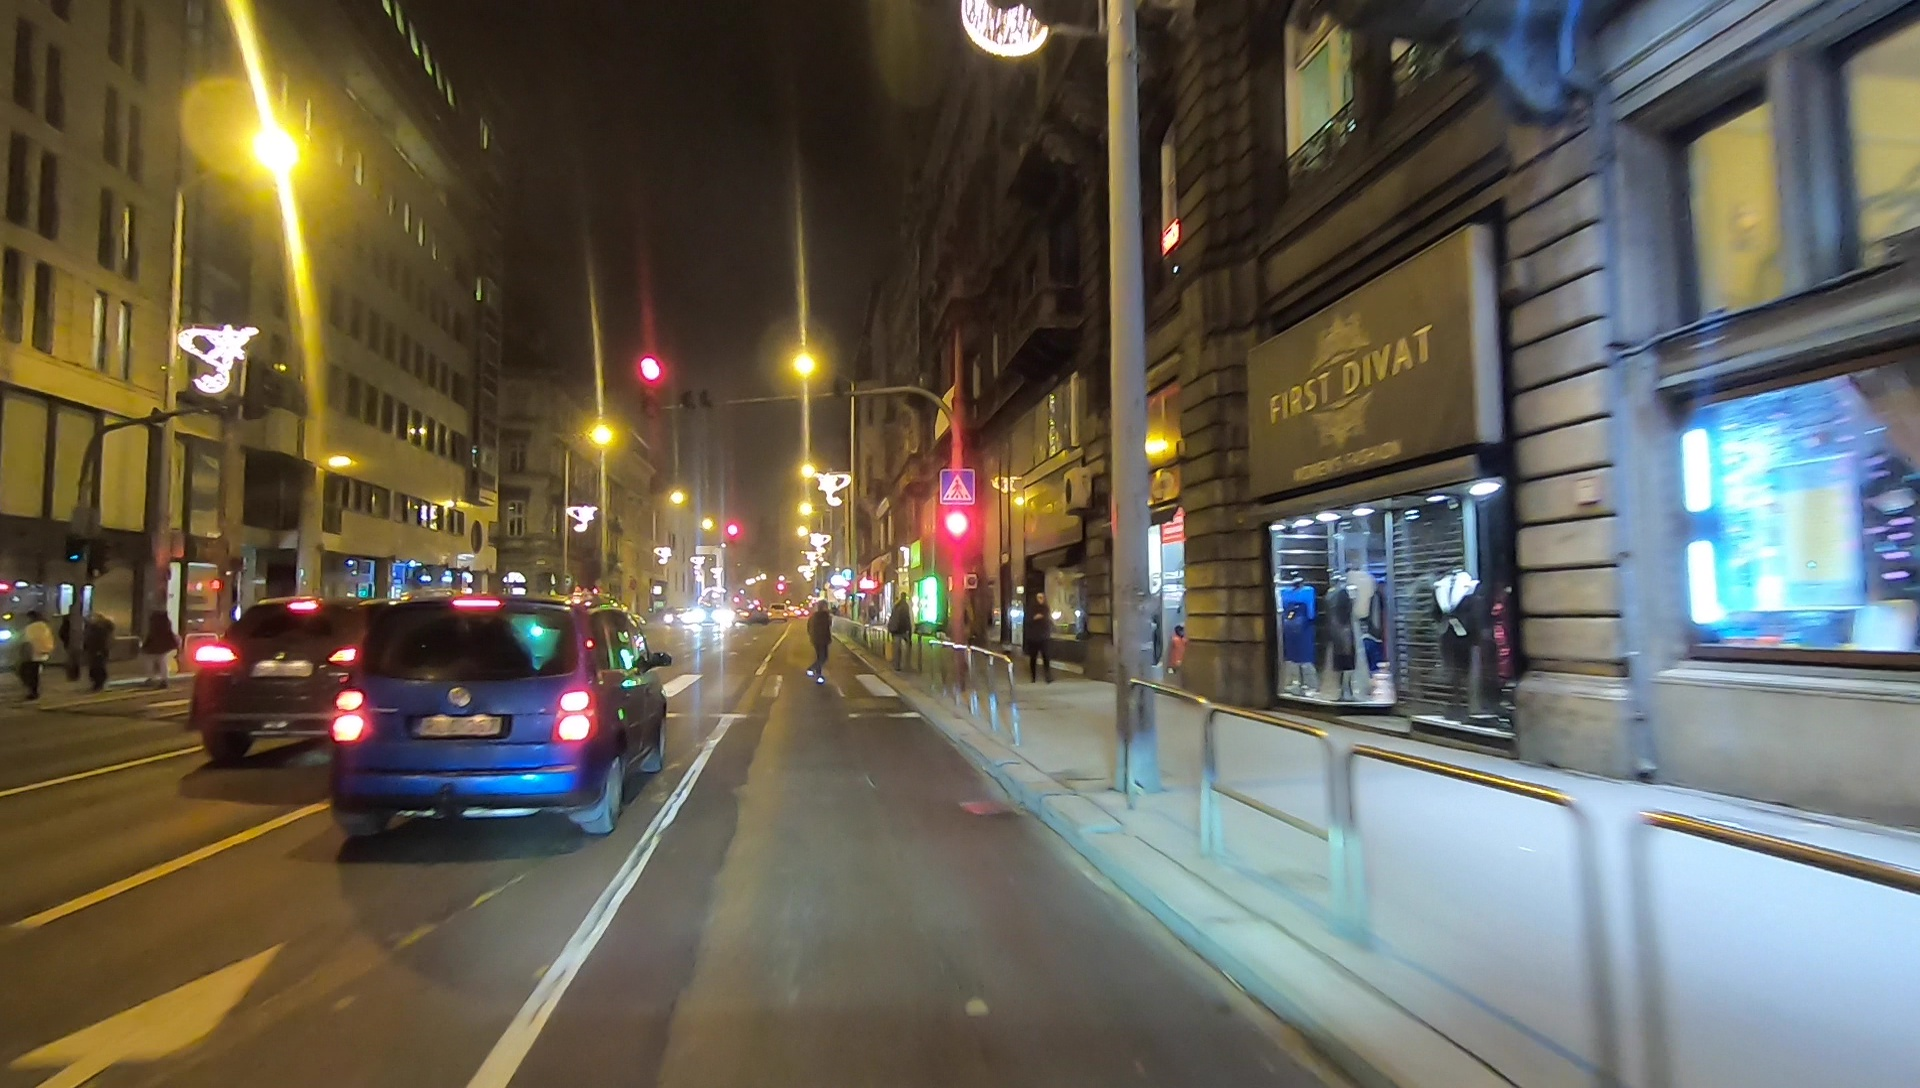person: (15, 611, 54, 702), (141, 606, 180, 687), (1023, 589, 1054, 680), (804, 600, 832, 686), (884, 595, 914, 673), (84, 615, 114, 687)
